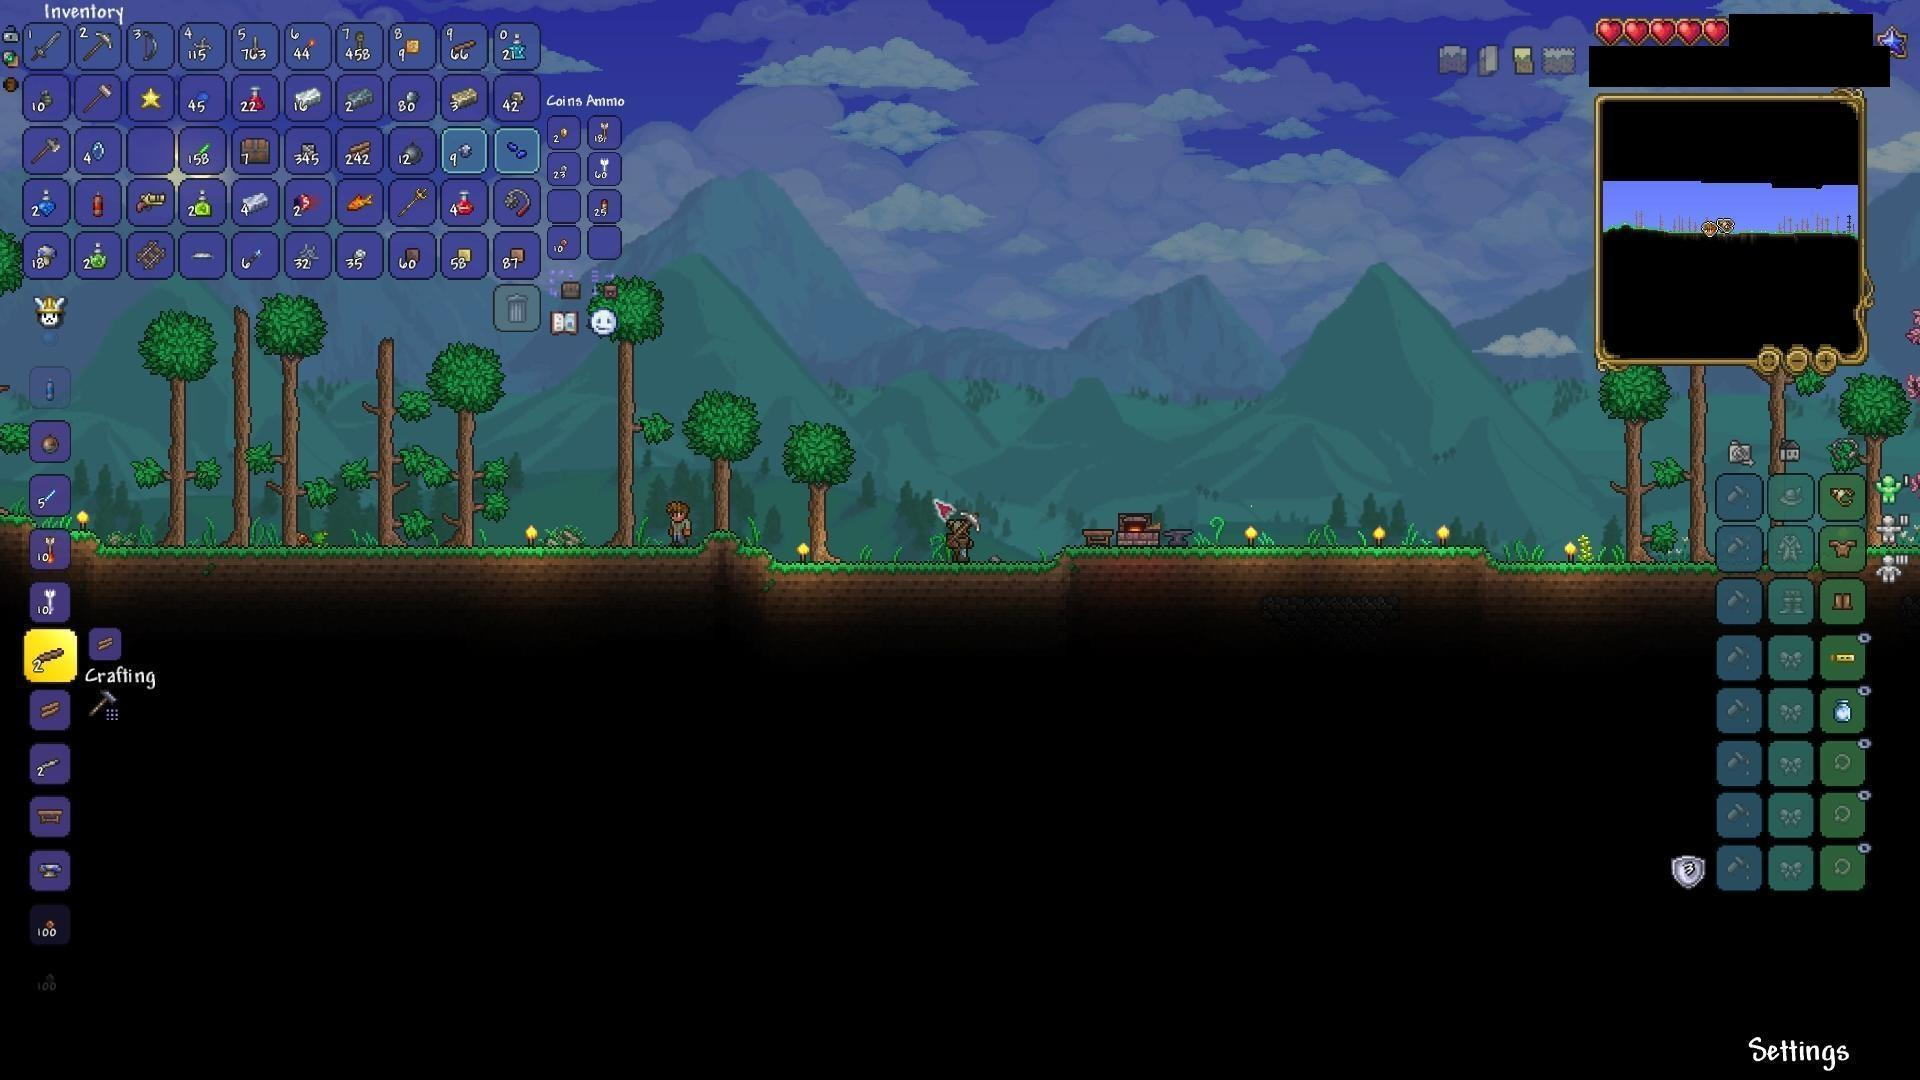dirt: (99, 526, 708, 593), (708, 530, 1072, 603), (1062, 541, 1495, 589), (1478, 550, 1713, 588)
heart: (1702, 17, 1733, 51), (1593, 16, 1626, 46), (1676, 15, 1704, 50), (1650, 16, 1676, 49), (1625, 15, 1651, 44)
tree: (589, 295, 658, 553), (141, 298, 211, 545), (258, 286, 315, 556), (1598, 360, 1669, 567), (425, 334, 492, 551), (368, 328, 414, 551), (785, 414, 852, 563), (687, 385, 746, 535), (222, 301, 257, 550), (1680, 355, 1718, 572), (1847, 373, 1890, 545)
